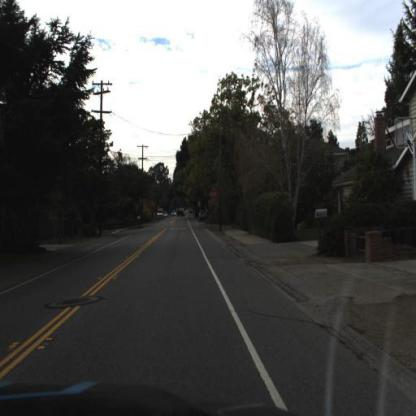car: (191, 201, 215, 227), (151, 207, 167, 223)
